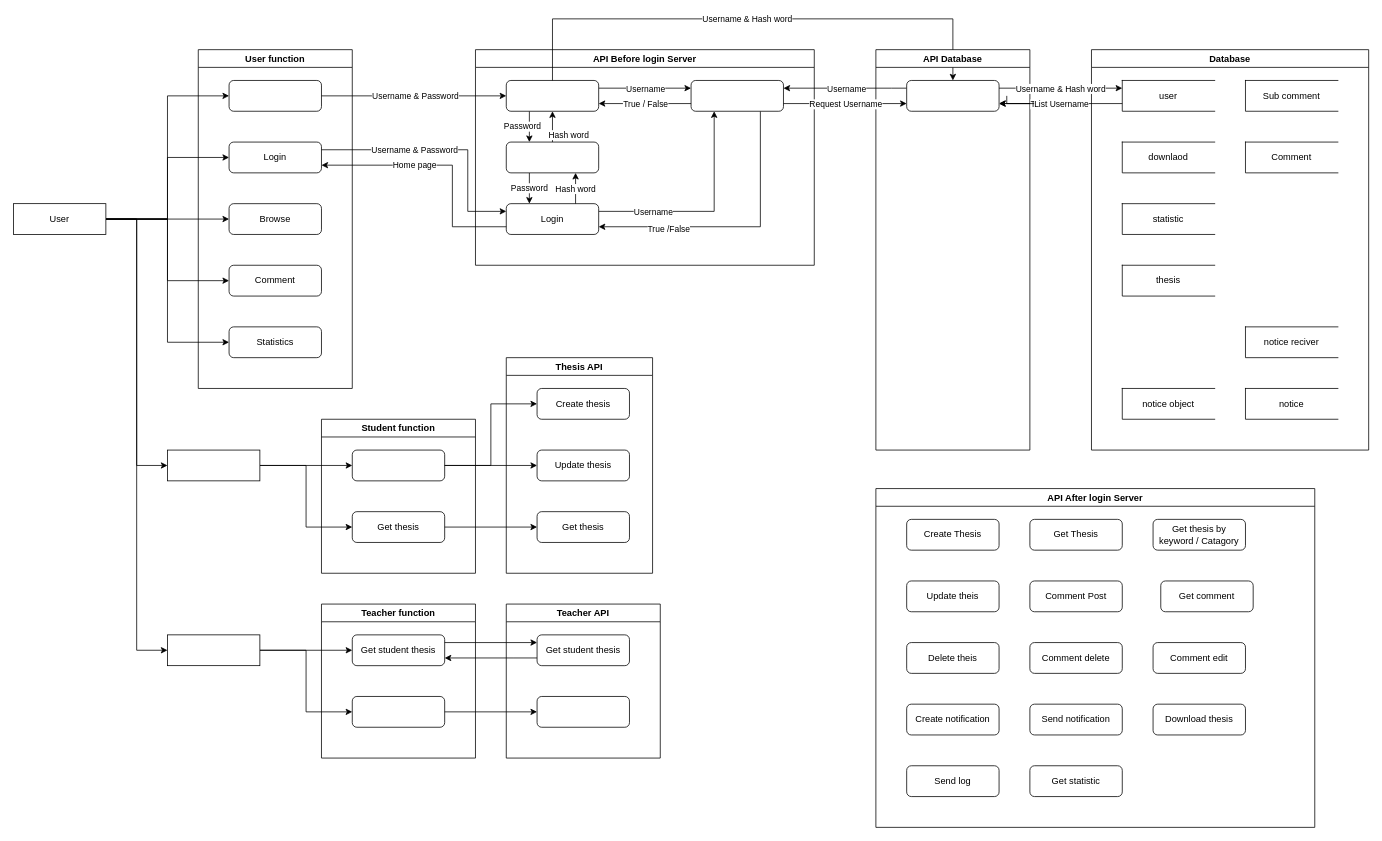
Image size: 1382x841. Some labels were removed from this diagram. Each missing label, with the centre of its shape:
"Approve" belongs at (x=582, y=711).
"Check thesis" belongs at (x=398, y=711).
"Compare account" belongs at (x=736, y=95).
"Create account" belongs at (x=552, y=95).
"Hash function" belongs at (x=552, y=157).
"Register" belongs at (x=274, y=95).
"Student" belongs at (x=213, y=465).
"Teacher" belongs at (x=213, y=650).
"Upload" belongs at (x=398, y=465).
"User Database" belongs at (x=952, y=95).
